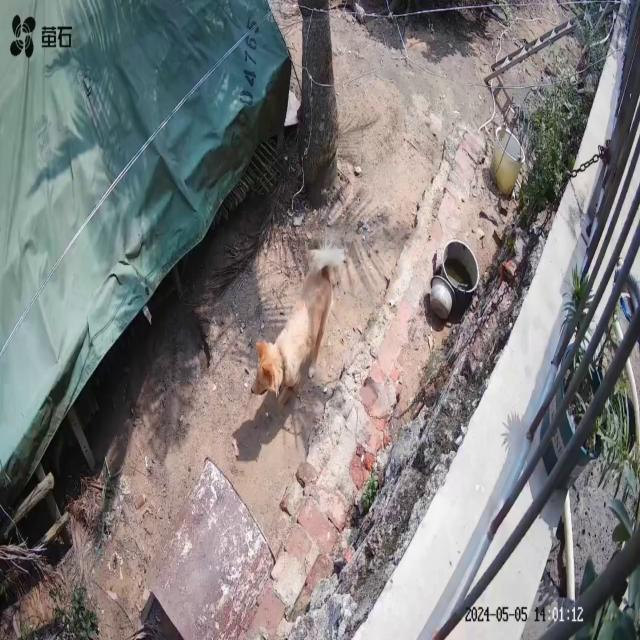dog: (252, 242, 346, 412)
